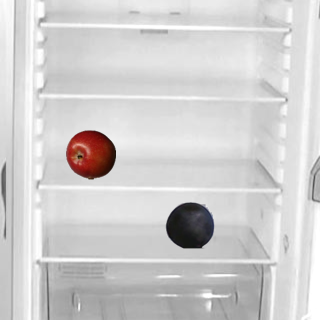Apple Braeburn: (65, 129, 115, 179)
Grape Blue: (164, 199, 214, 249)
